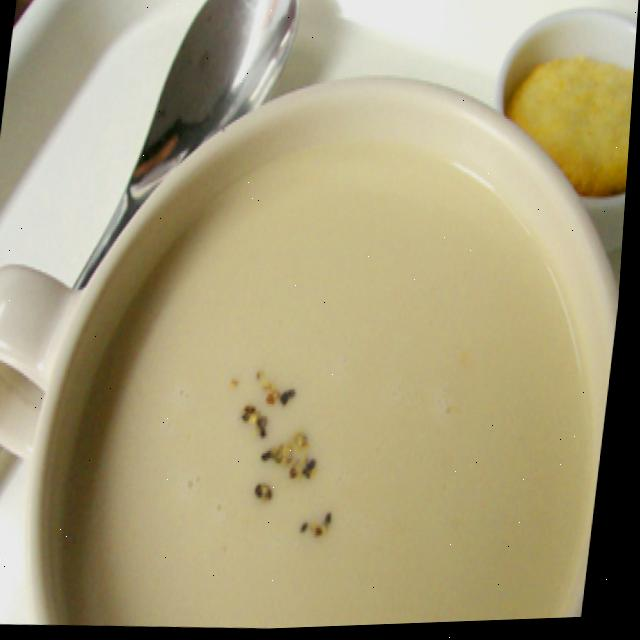汤锅炖物: (15, 59, 636, 639)
